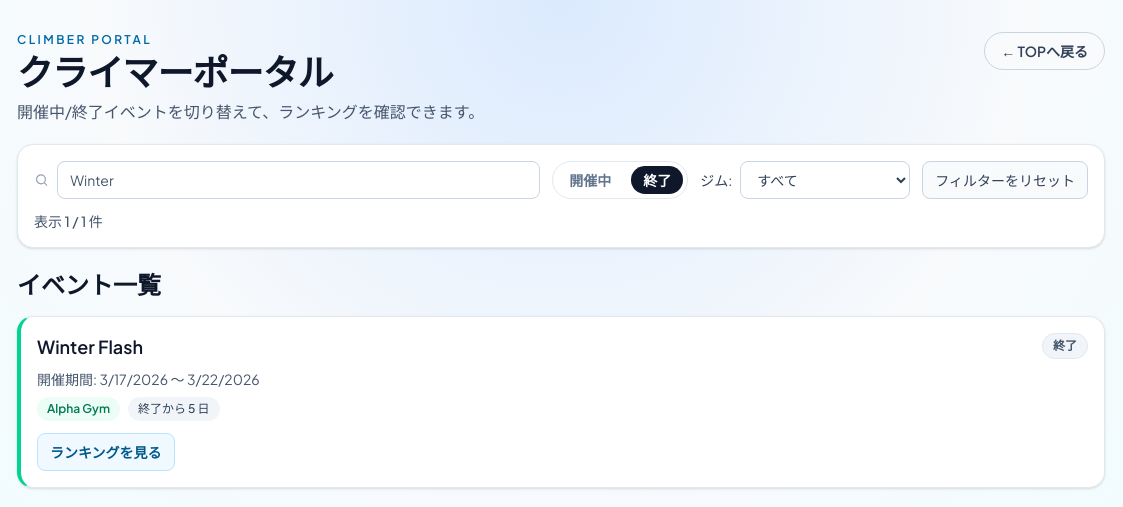
Scenario: ScoreSummary › switches to Past view and resets back to Live
Check: the heading "クライマーポータル" is shown, box [17,49,333,94]
Check: the text "表示 1 / 1 件" is shown, box [34,212,103,230]
Click the button "フィルターをリセット". click: {"x": 1005, "y": 180}
box: [922,161,1088,199]
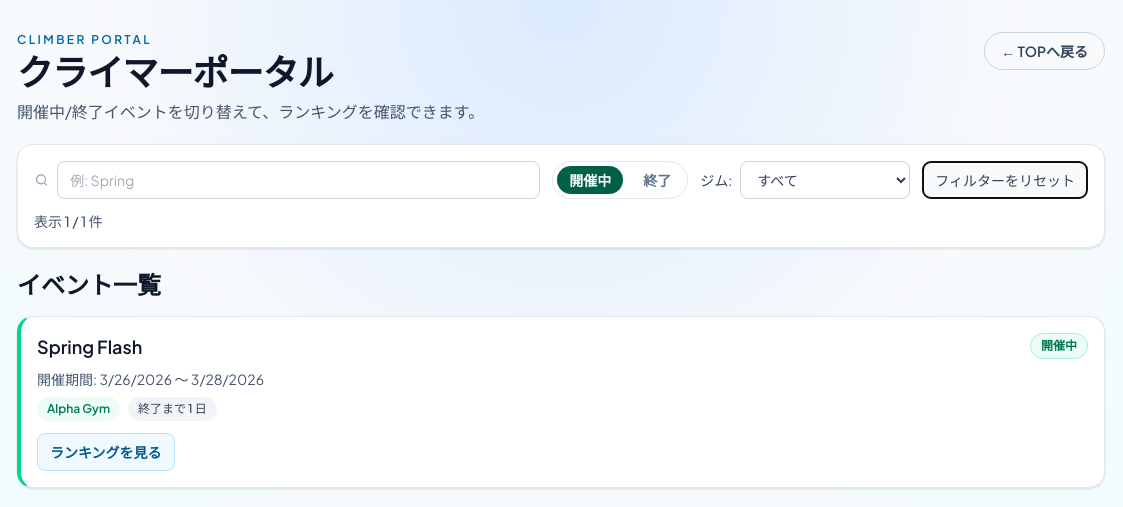
Check: the field with placeholder "例: Spring" is empty, box [57,161,540,199]
Check: the heading "Spring Flash" is shown, box [37,333,142,361]
Check: the heading "Winter Flash" is gone
